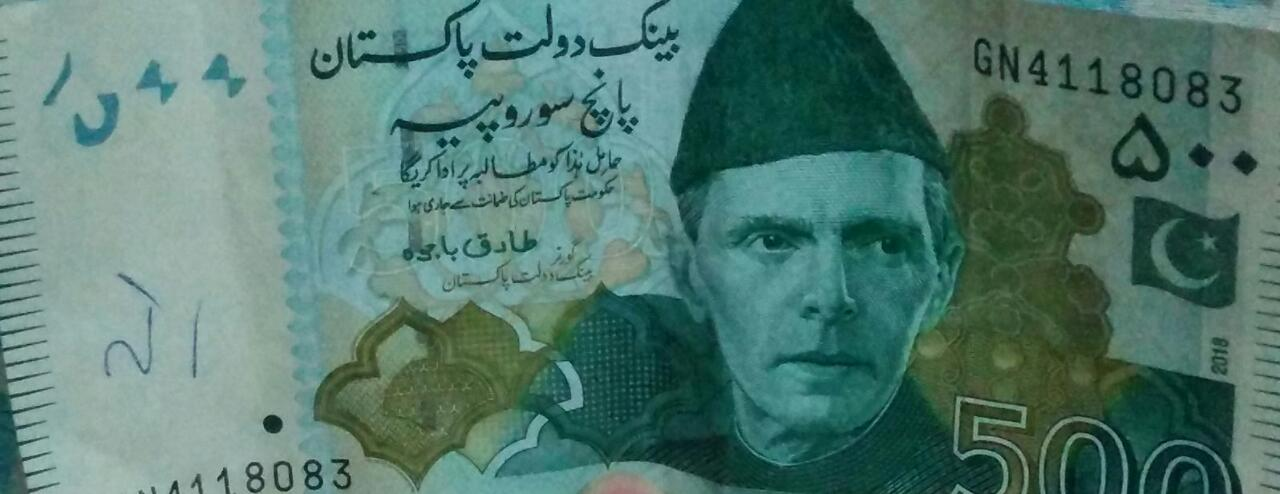500 rupee: (21, 17, 1272, 492)
